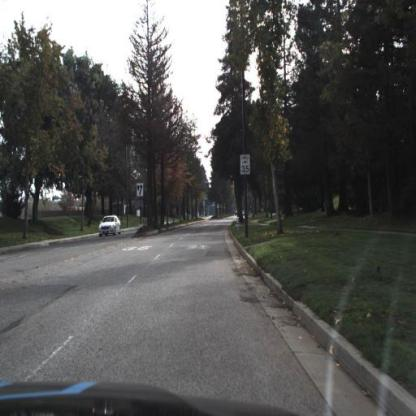car: (96, 214, 123, 239)
